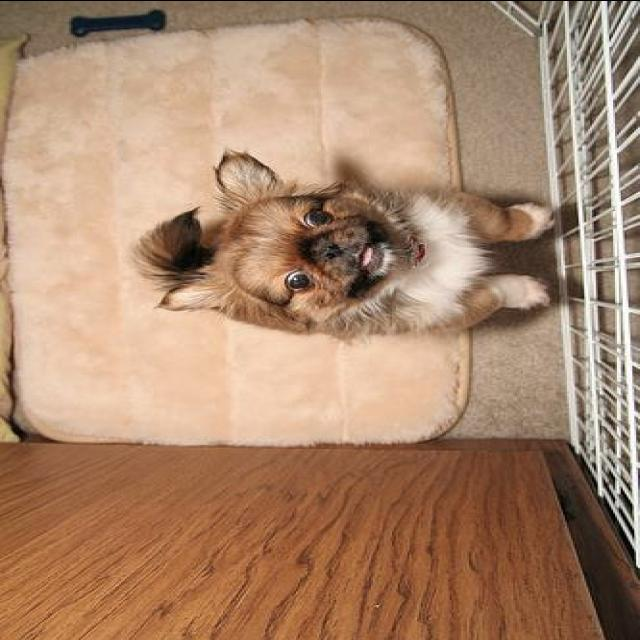pekinese: (127, 150, 550, 344)
